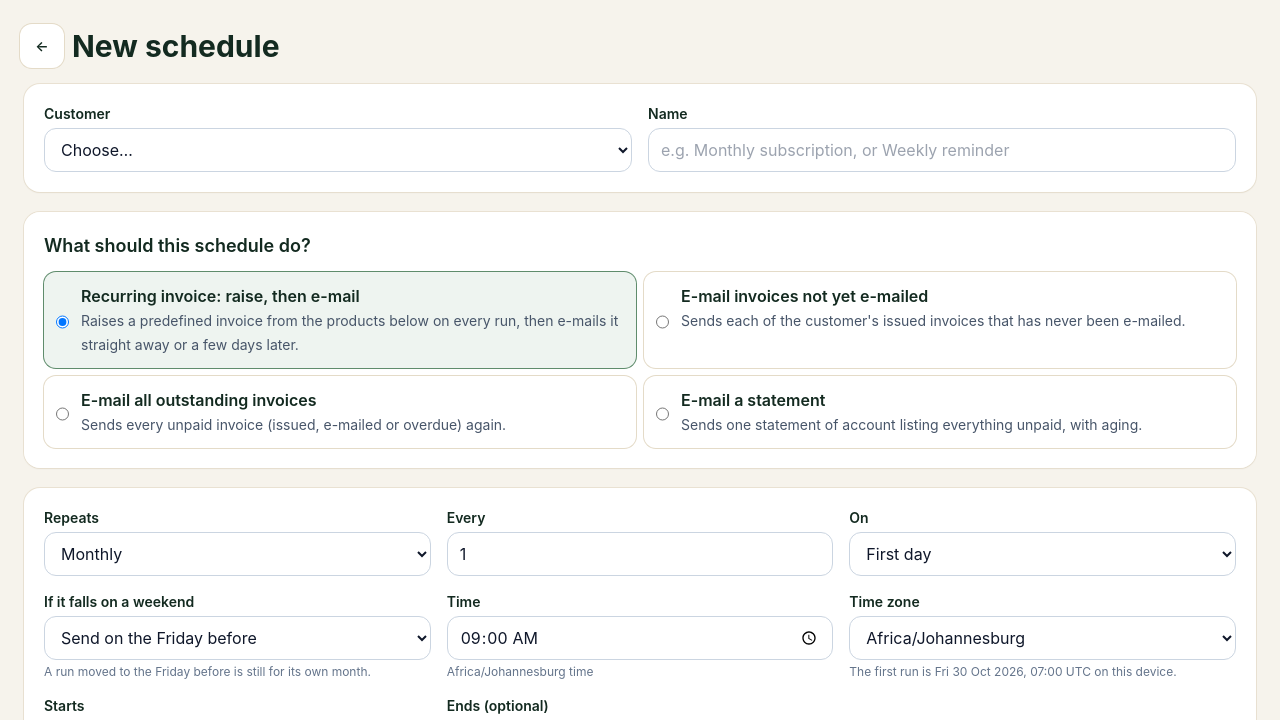
monthly offers first day, last day or a day, and the weekend choice; next runs are the server’s
Expected: the dropdown labelled "If it falls on a weekend" shows "Send on the Friday before", [44,616,431,660]
Select "Last day" in the dropdown labelled "On" at (1043, 554), box [849,532,1236,576]
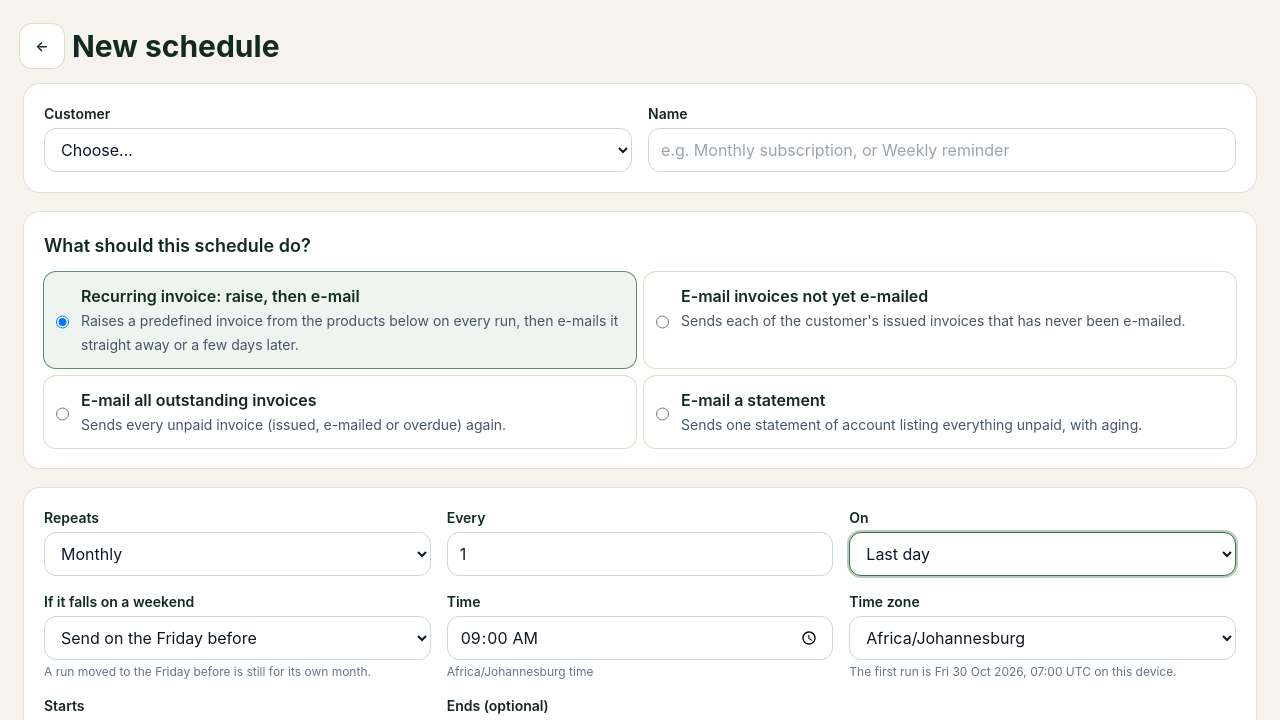
Select "Day of the month…" in the dropdown labelled "On" at (1043, 554), box [849,532,1236,576]
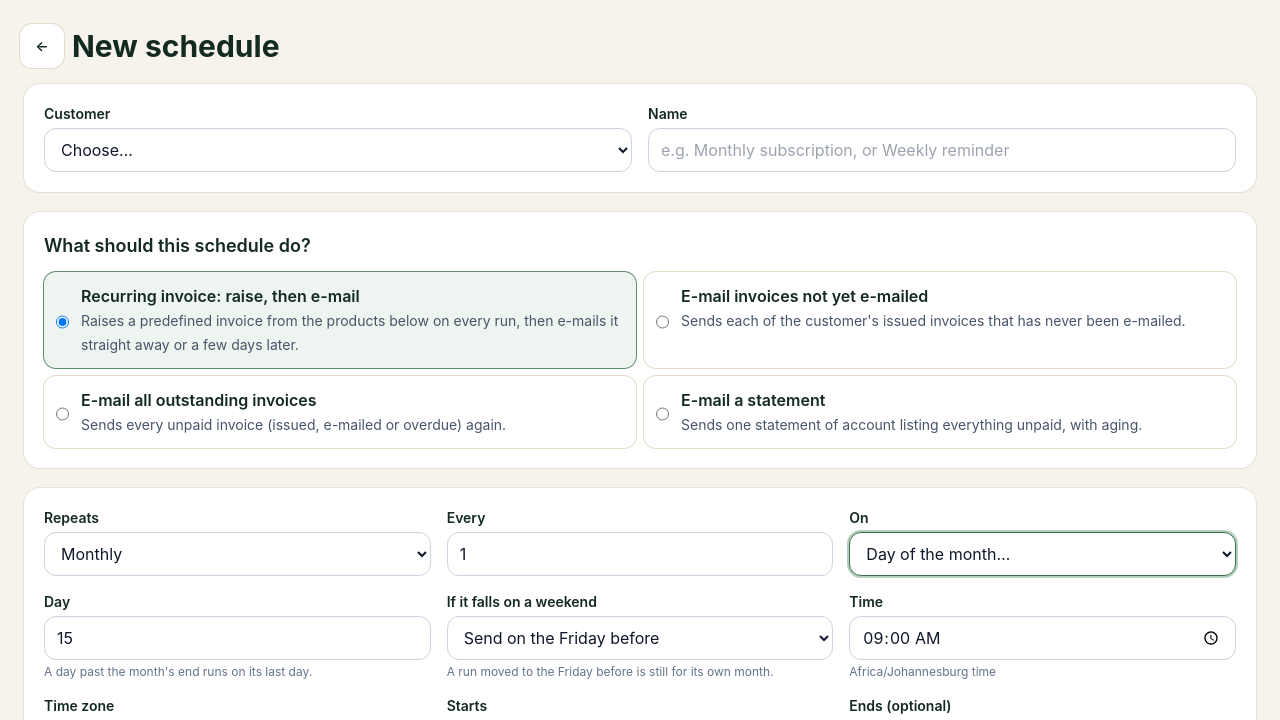
Result: the number field labelled "Day" holds "15"
Replace the text in the number field labelled "Day" with "31" at (237, 638), box [44,616,431,660]
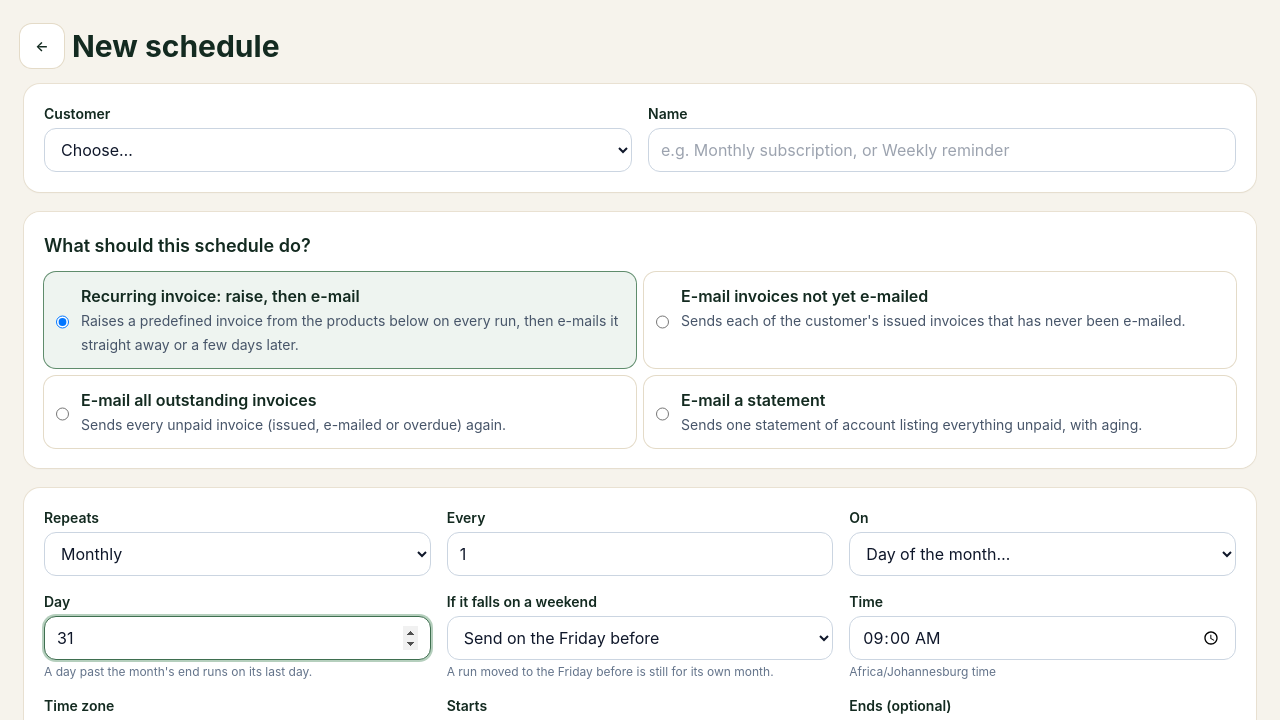
Result: the text "A day past the month's end runs on its last day." is shown at [44,664,312,679]
Select "Send on that day" in the dropdown labelled "If it falls on a weekend" at (640, 638), box [447,616,833,660]
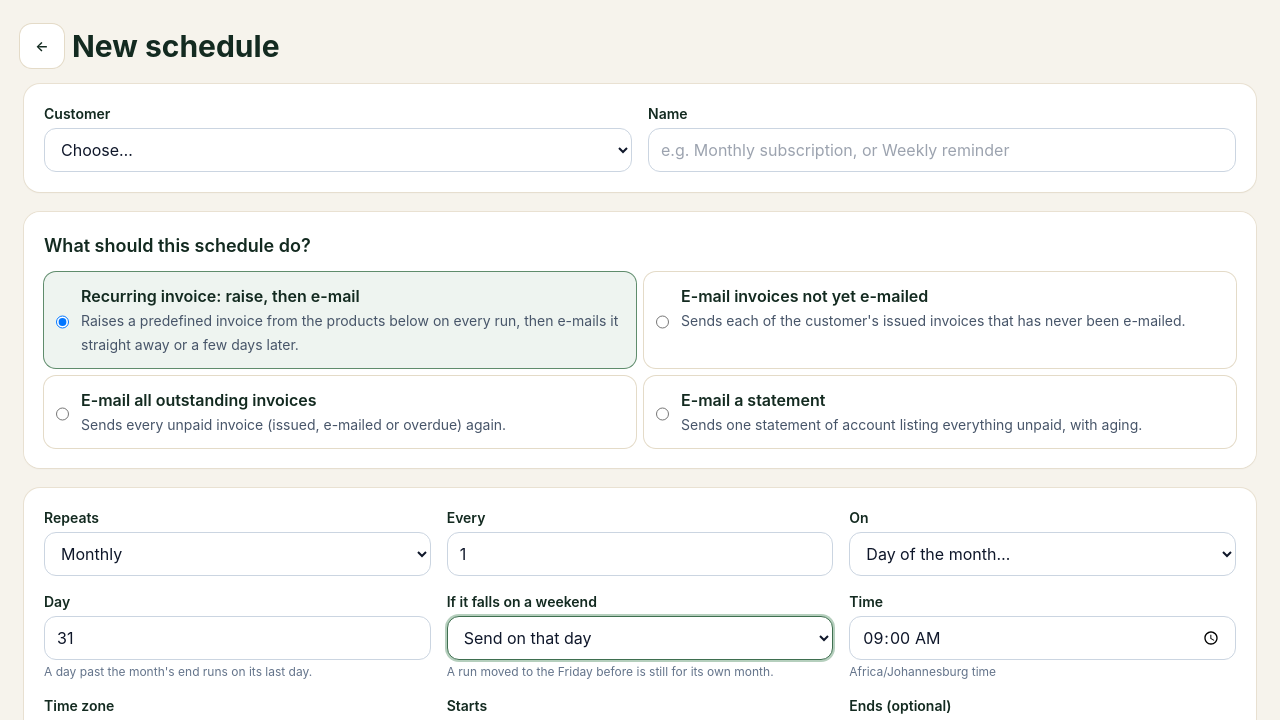
Select "Weekly" in the dropdown labelled "Repeats" at (237, 554), box [44,532,431,576]
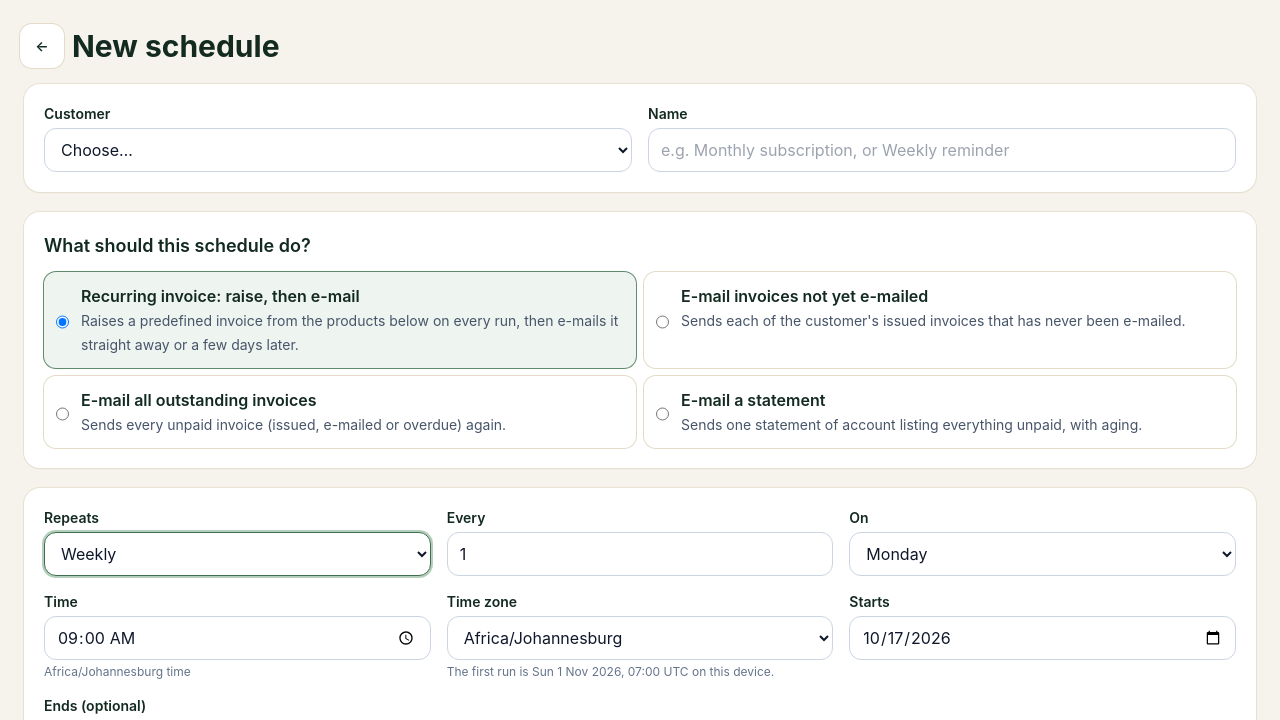
Result: the label labelled "If it falls on a weekend" is gone
